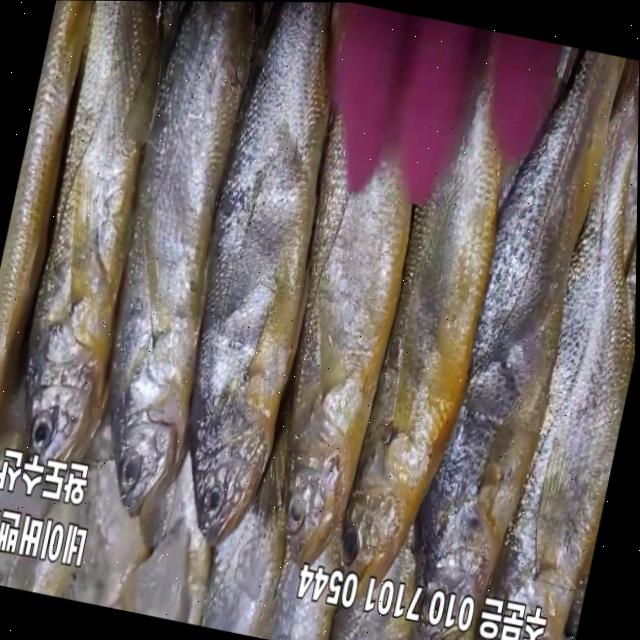Wet: (396, 35, 621, 640), (155, 1, 370, 552), (73, 0, 284, 528), (468, 51, 639, 640), (0, 0, 196, 468), (336, 135, 517, 614), (241, 131, 432, 577)
